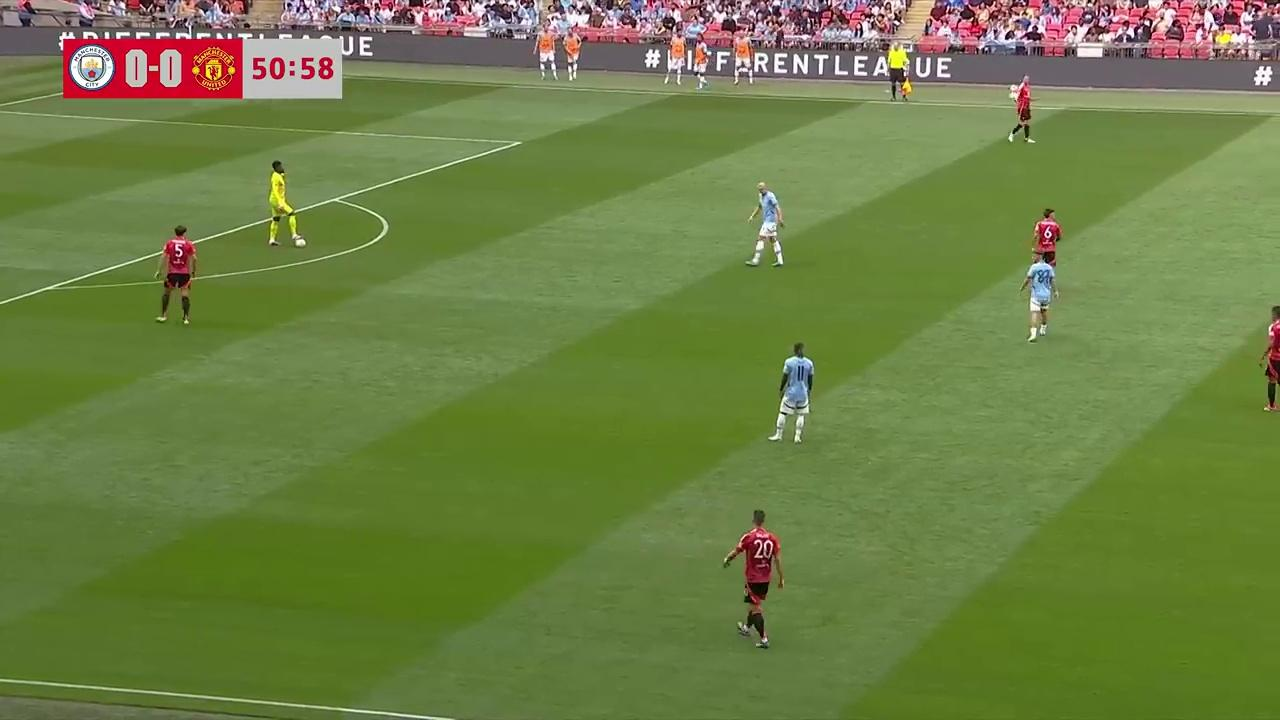ball: (293, 232, 307, 250), (748, 252, 760, 267), (751, 250, 762, 266)
player: (720, 509, 784, 650), (768, 341, 814, 445), (155, 224, 197, 324), (1019, 252, 1058, 342), (266, 159, 305, 248), (745, 183, 786, 267), (1258, 307, 1280, 413), (1031, 208, 1063, 269), (1008, 77, 1034, 144)
referee: (887, 42, 913, 103)
